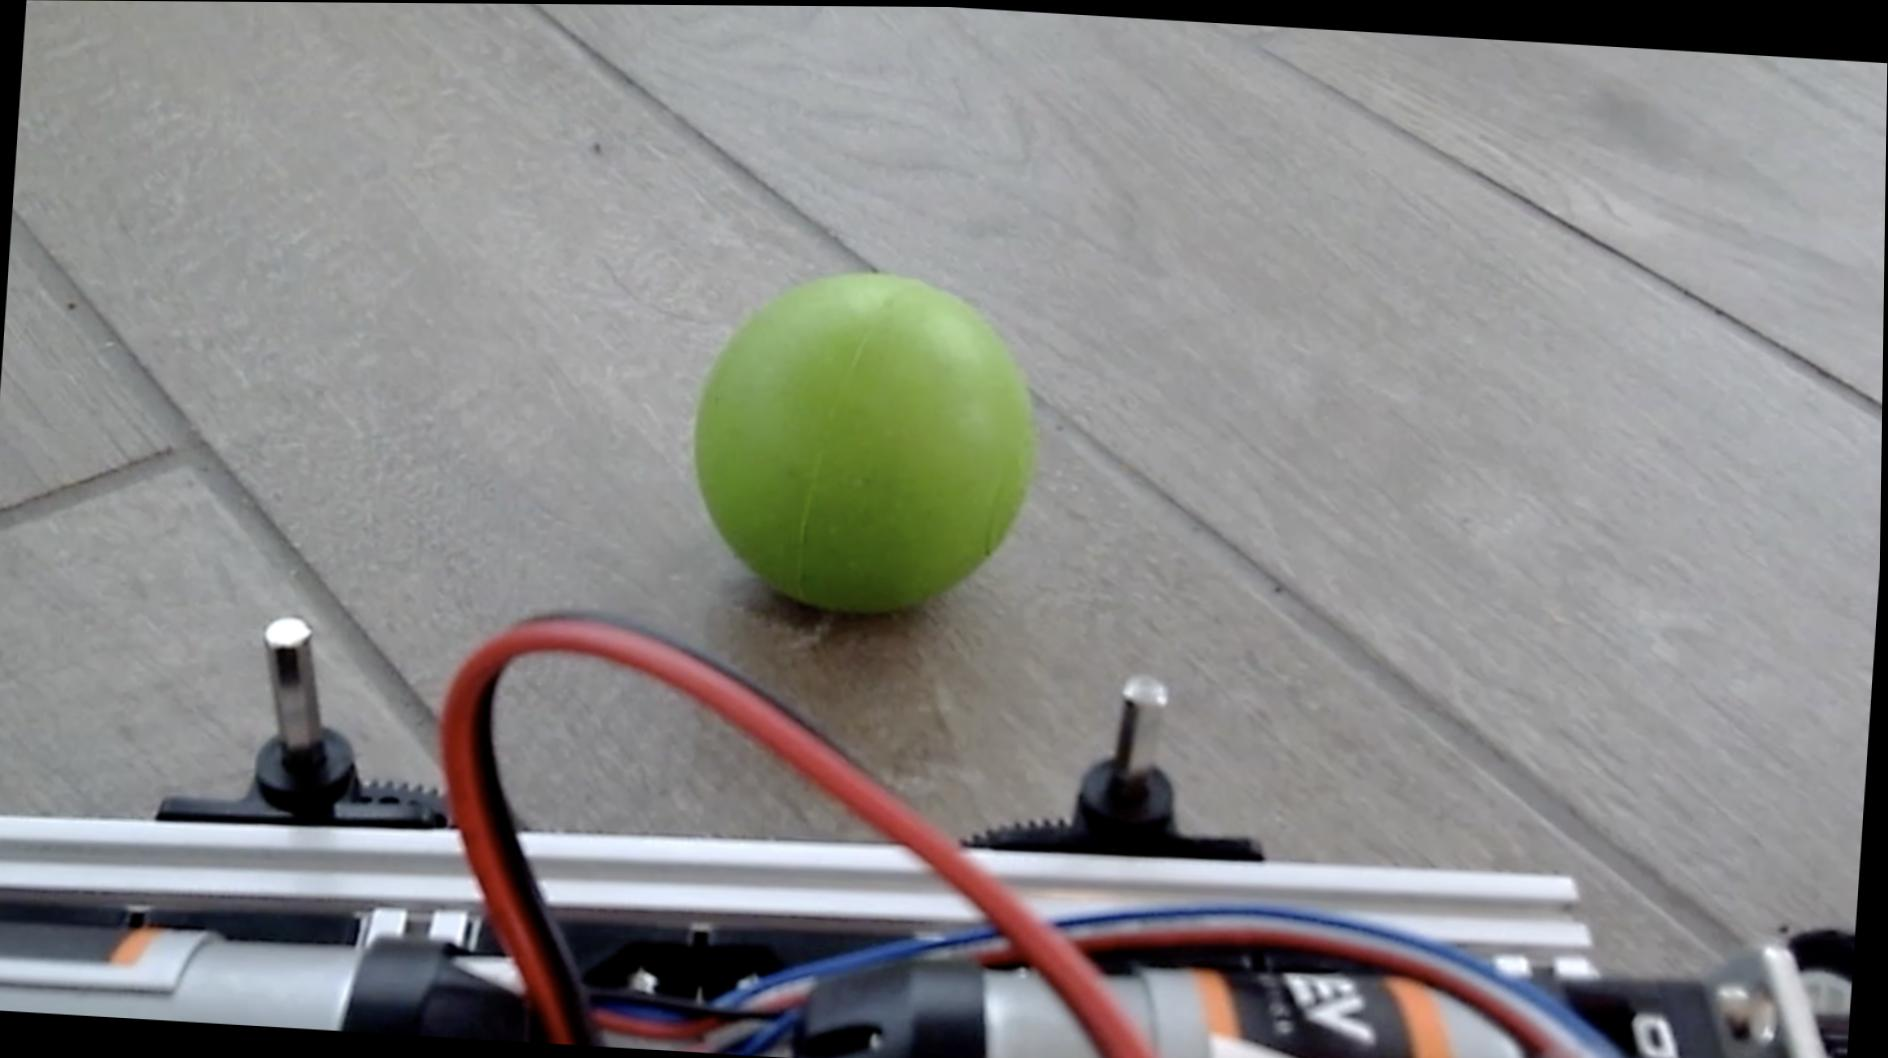greenball: (681, 258, 1049, 626)
